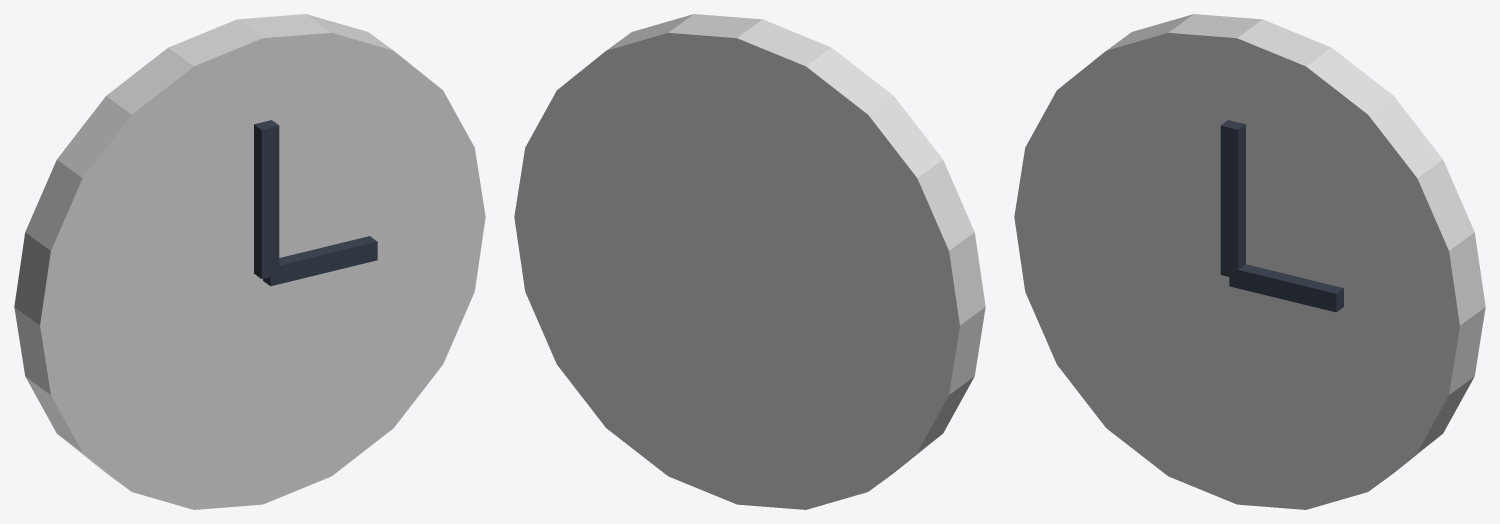
Rendered from Kitchen_Clock.fbx.
3 renders of one model, left to right at view 1: azimuth 30°, elevation 25°; view 2: azimuth 150°, elevation 25°; view 3: azimuth 330°, elevation 25°, orthographic.
Visible parts, largest first — view 1: Clock; view 2: Clock; view 3: Clock.
Part boxes in pixels (x1=…): Clock: x1=14, y1=14, x2=485, y2=509; Clock: x1=514, y1=14, x2=985, y2=509; Clock: x1=1014, y1=14, x2=1485, y2=509.
Size of the model in its own units: 0.5 by 0.5 by 0.065.
